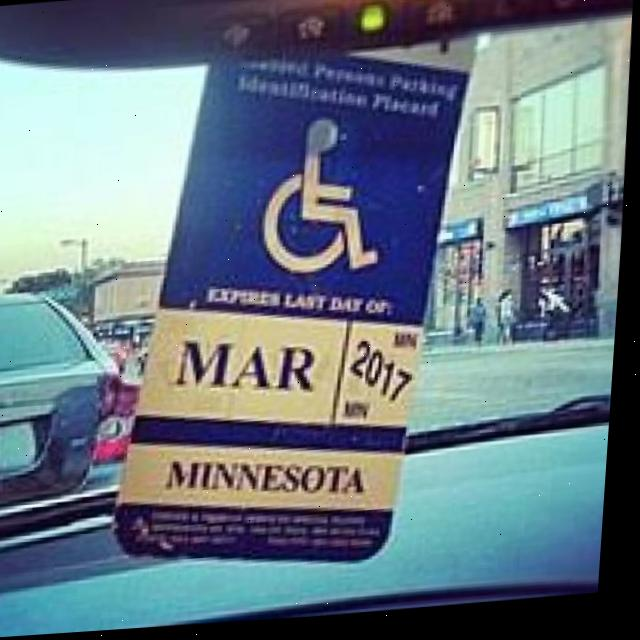symbol_of_access: (259, 114, 393, 285)
